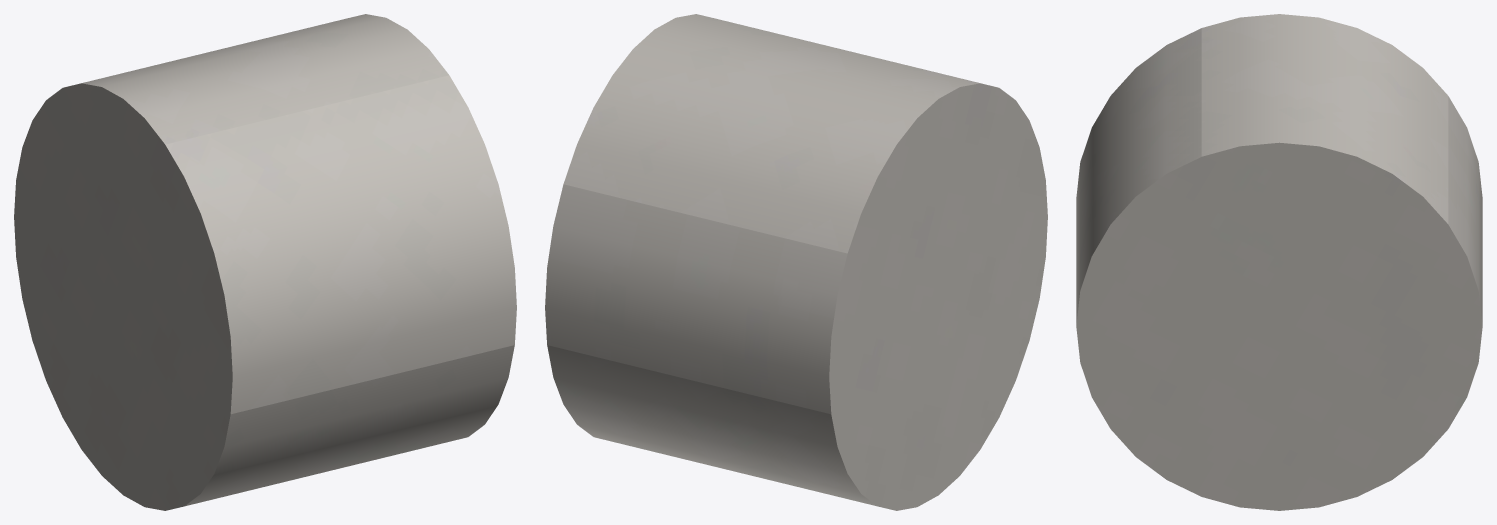
The model's file is dispense_knob__axle.glb.
3 views of the same model, side by side, from view 1: azimuth 30°, elevation 25°; view 2: azimuth 150°, elevation 25°; view 3: azimuth 270°, elevation 25° (orthographic). The views are drawn at different scales.
Visible parts, largest first — view 1: geometry_0; view 2: geometry_0; view 3: geometry_0.
Boxes of the visible parts, box(x1,y1,x2,y2) form: geometry_0: box(14, 14, 516, 510); geometry_0: box(545, 14, 1047, 510); geometry_0: box(1076, 14, 1482, 510).
Size of the model in its own units: 0.018 by 0.024 by 0.024.
1 material, 1 textured.
